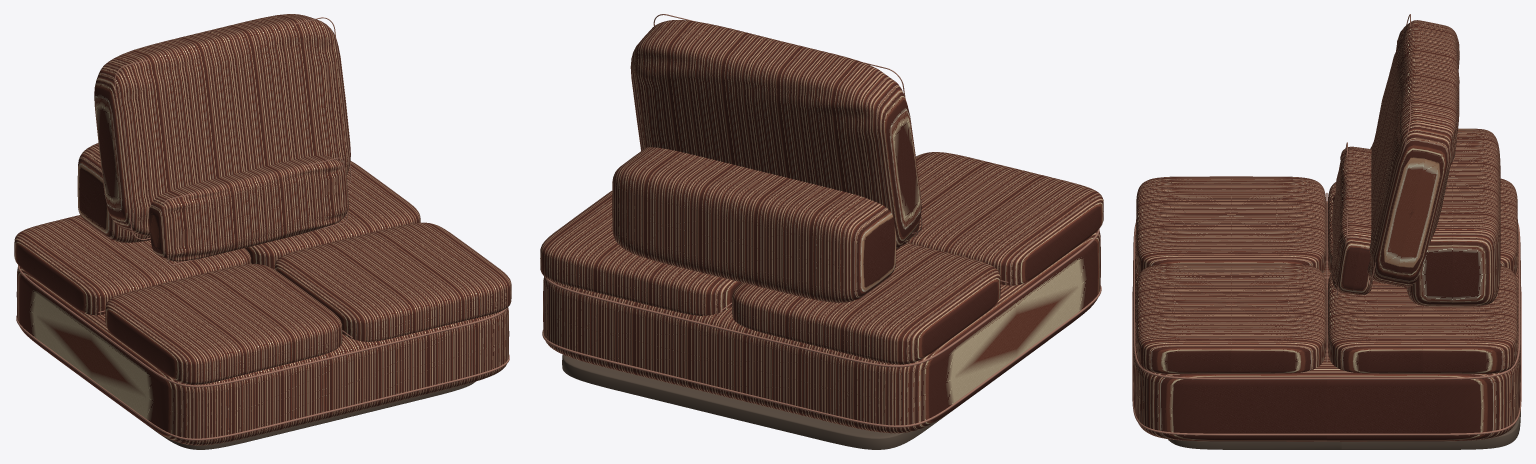
The model's file is U03_chair_photo_reconstruction.glb.
The picture shows the model from 3 angles, left to right: view 1: azimuth 30°, elevation 25°; view 2: azimuth 150°, elevation 25°; view 3: azimuth 270°, elevation 25°; orthographic projection. The views are drawn at different scales.
Visible parts, largest first — view 1: Rust multi-stripe woven cloth, Rust woven piping, Recessed dark underside; view 2: Rust multi-stripe woven cloth, Recessed dark underside, Rust woven piping; view 3: Rust multi-stripe woven cloth, Rust woven piping, Recessed dark underside.
Part boxes in pixels (left/top/right/bottom): Rust multi-stripe woven cloth: left=14, top=14, right=511, bottom=445; Rust woven piping: left=16, top=17, right=509, bottom=440; Recessed dark underside: left=56, top=358, right=475, bottom=449; Rust multi-stripe woven cloth: left=540, top=20, right=1103, bottom=433; Recessed dark underside: left=562, top=343, right=1044, bottom=449; Rust woven piping: left=542, top=14, right=1101, bottom=427; Rust multi-stripe woven cloth: left=1133, top=20, right=1520, bottom=441; Rust woven piping: left=1132, top=14, right=1521, bottom=435; Recessed dark underside: left=1168, top=409, right=1520, bottom=449.
Size of the model in its own units: 1.13 by 0.9297 by 1.05.
Materials: 3 (1 with a texture image).
